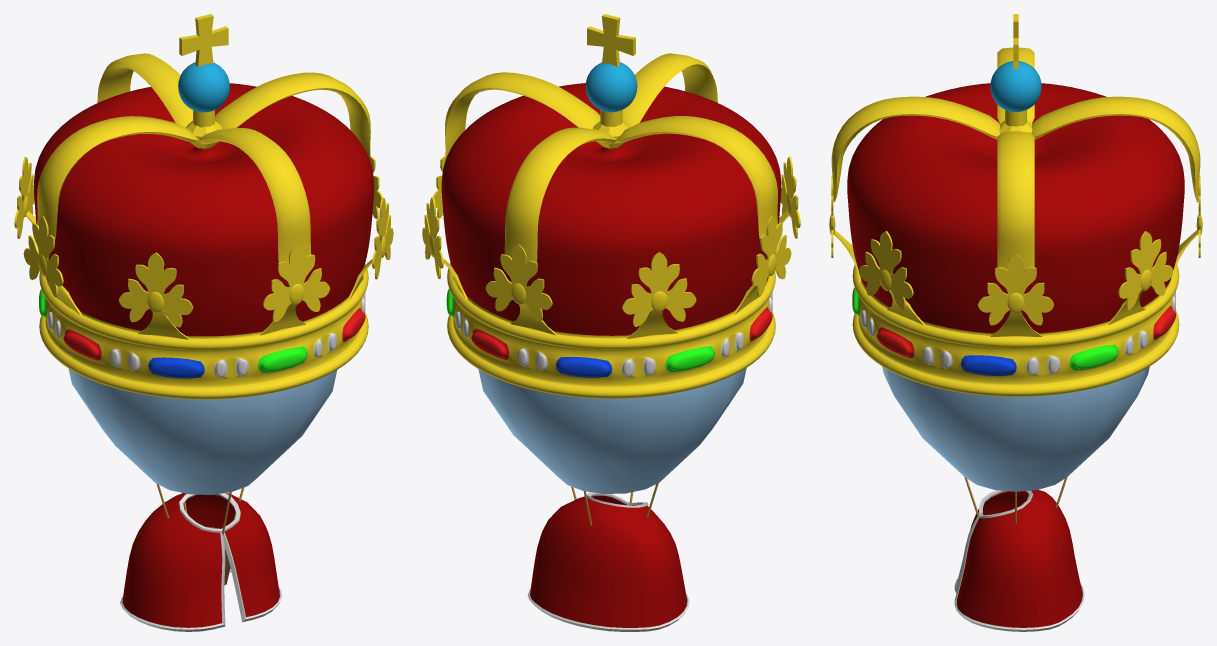
Rendered from Lv5_FB_King.FBX.
3 renders of one model, left to right at view 1: azimuth 30°, elevation 25°; view 2: azimuth 150°, elevation 25°; view 3: azimuth 270°, elevation 25°, orthographic.
Visible parts, largest first — view 1: Cylinder002, Sphere001, Box001, Shape001; view 2: Cylinder002, Sphere001, Box001, Shape001; view 3: Cylinder002, Sphere001, Box001, Shape001.
Boxes of the visible parts, <box> form: Cylinder002: <box>14,14,393,399</box>; Sphere001: <box>68,369,337,494</box>; Box001: <box>122,493,279,627</box>; Shape001: <box>120,493,281,631</box>; Cylinder002: <box>422,14,800,398</box>; Sphere001: <box>478,368,746,493</box>; Box001: <box>530,495,686,627</box>; Shape001: <box>527,492,689,631</box>; Cylinder002: <box>829,14,1202,396</box>; Sphere001: <box>882,366,1149,491</box>; Box001: <box>956,489,1082,627</box>; Shape001: <box>954,490,1084,631</box>.
Size of the model in its own units: 170 by 291 by 170.
